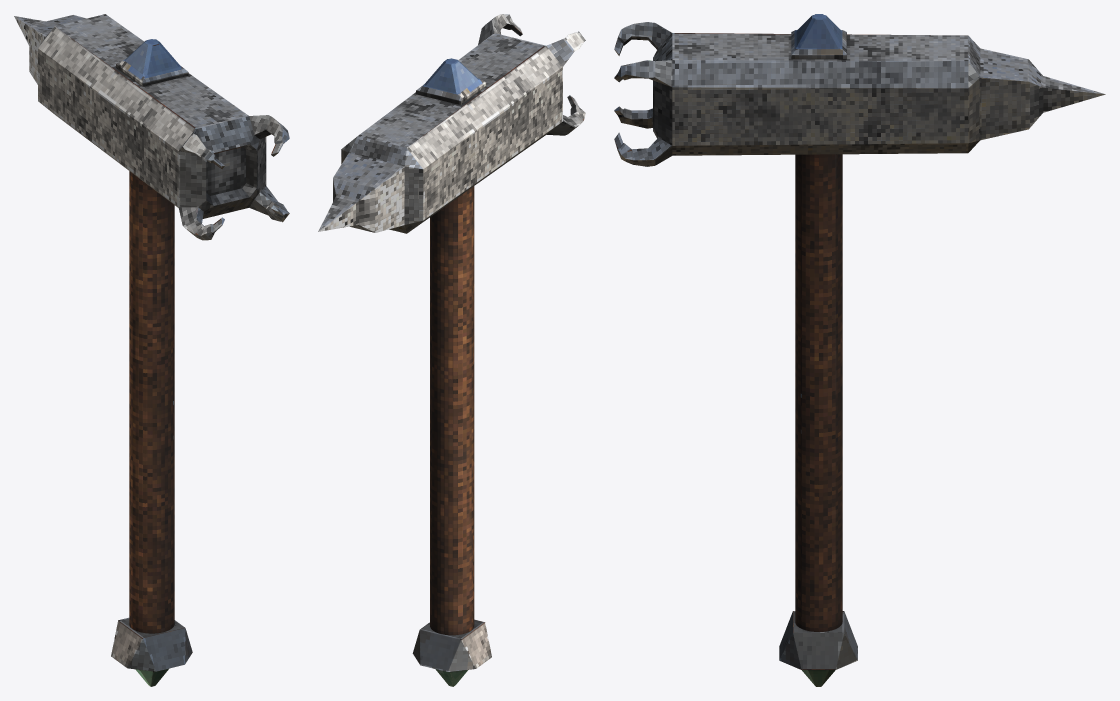
The model's file is hammer.glb.
3 views of the same model, side by side, from view 1: azimuth 30°, elevation 25°; view 2: azimuth 150°, elevation 25°; view 3: azimuth 270°, elevation 25° (orthographic). The views are drawn at different scales.
Parts seen in each view (by area): view 1: Cube; view 2: Cube; view 3: Cube.
Boxes of the visible parts, x1,y1,x2,y2 form: Cube: (14, 14, 289, 686); Cube: (318, 14, 585, 686); Cube: (614, 14, 1105, 686).
Bounding box in the file's own units: 0.0777 × 0.4872 × 0.3241.
1 material, 1 textured.
